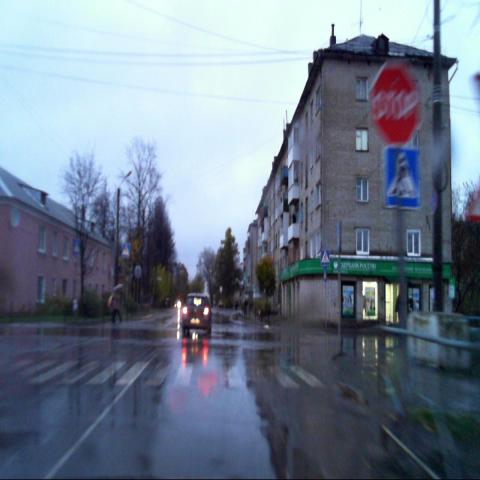5_19_1: (384, 145, 420, 210)
